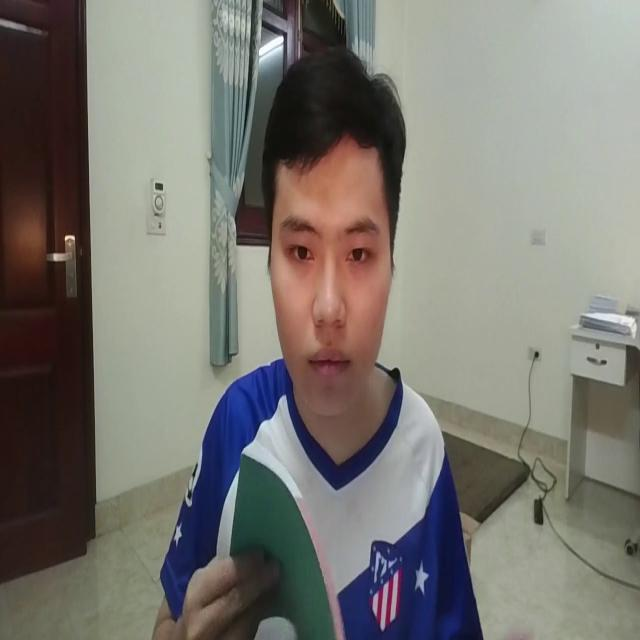book: (219, 407, 351, 640)
student: (128, 28, 506, 640)
